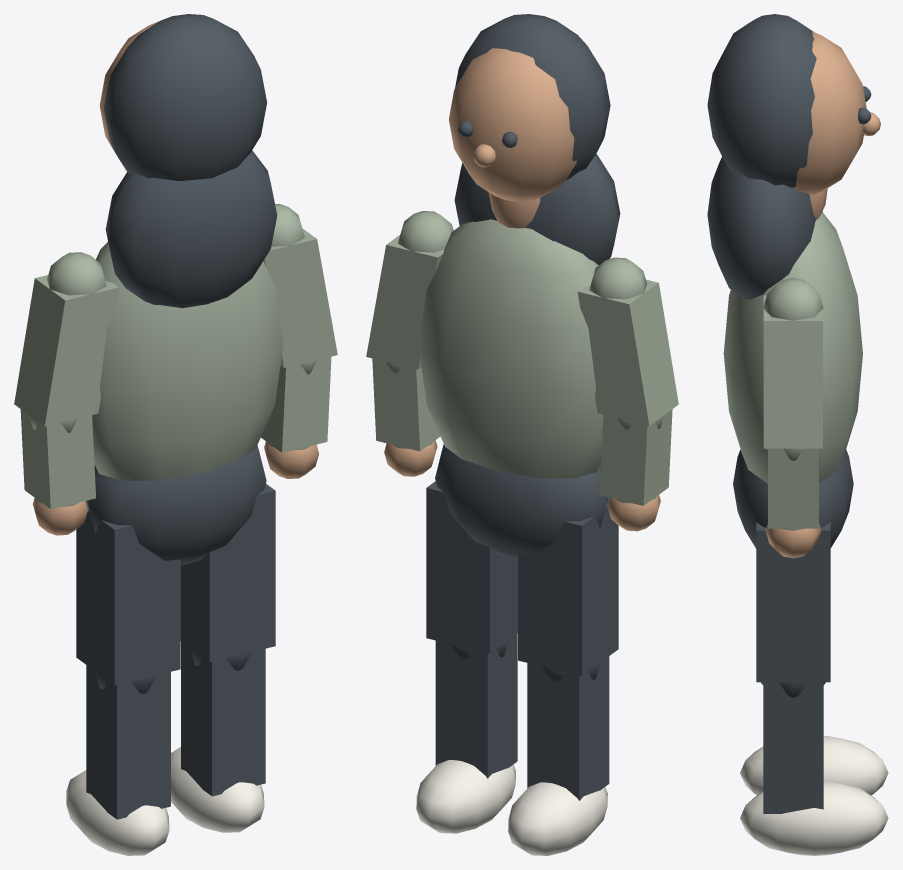
Rendered from person-warga-stand.glb.
3 renders of one model, left to right at view 1: azimuth 30°, elevation 25°; view 2: azimuth 150°, elevation 25°; view 3: azimuth 270°, elevation 25°, orthographic. The views are drawn at different scales.
Visible parts, largest first — view 1: person-warga-stand; view 2: person-warga-stand; view 3: person-warga-stand.
Part boxes in pixels (x1,y1,x2,y2): person-warga-stand: (14,14,337,855); person-warga-stand: (366,14,678,855); person-warga-stand: (707,14,888,855).
Size of the model in its own units: 0.71 by 1.92 by 0.39.
